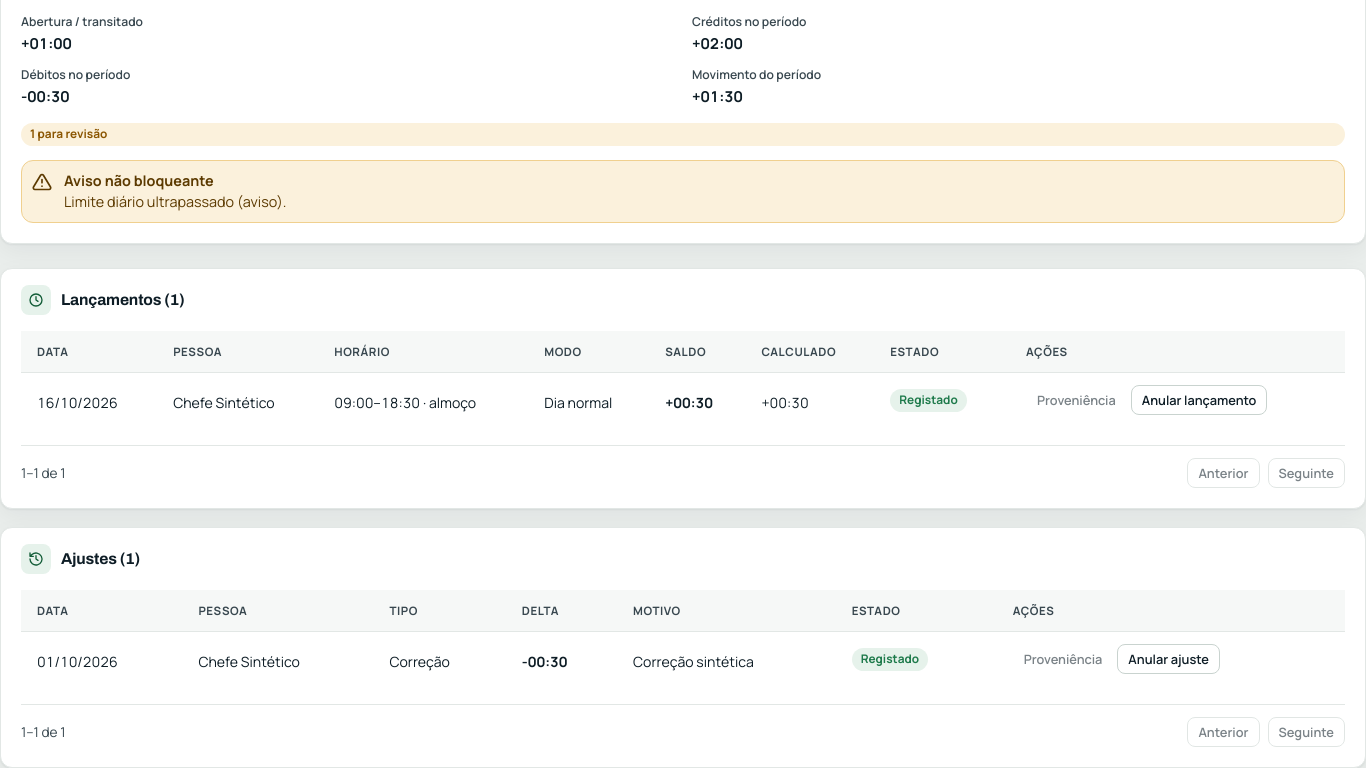
Test case: Banco de Horas › exige motivo para anular e mostra o lançamento original depois da compensação
(page scrolled)
Click the button "Anular lançamento".
click(1199, 400)  # box [1131, 385, 1267, 415]
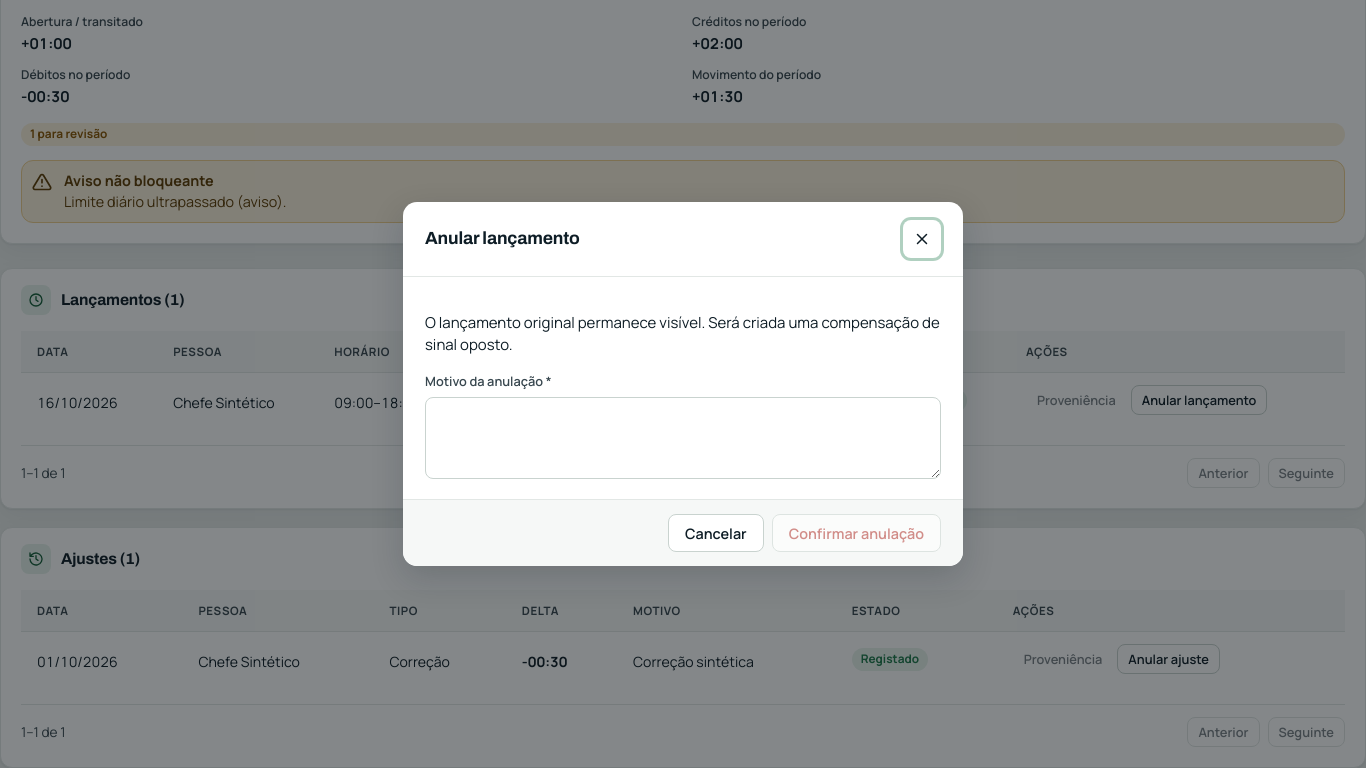
Check: the button "Confirmar anulação" is disabled, box [772, 514, 941, 552]
Type "Correção sintética" into the text box labelled "Motivo da anulação *".
click(683, 438); type("Correção sintética")  # box [425, 397, 941, 479]
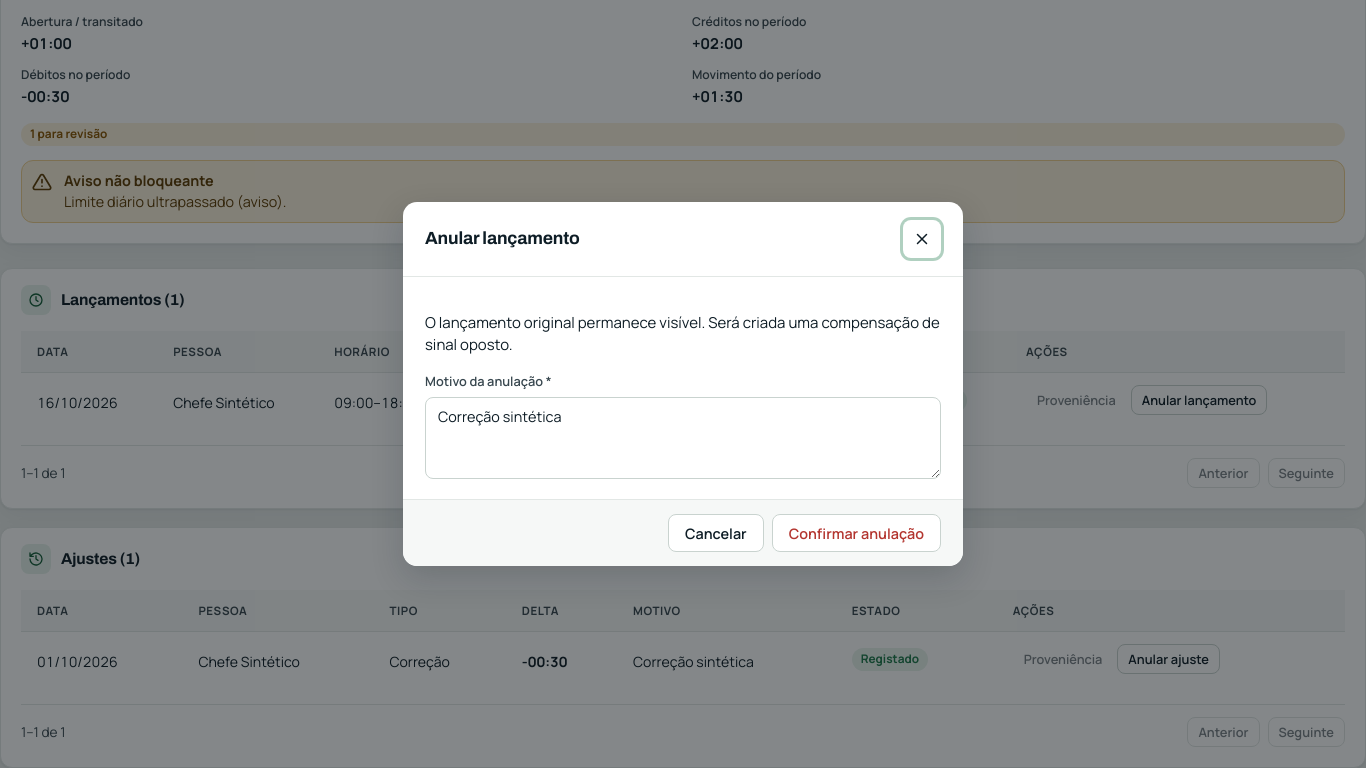
Check: the button "Confirmar anulação" is enabled
Click the button "Confirmar anulação".
click(856, 534)  # box [772, 514, 941, 552]
(page scrolled)
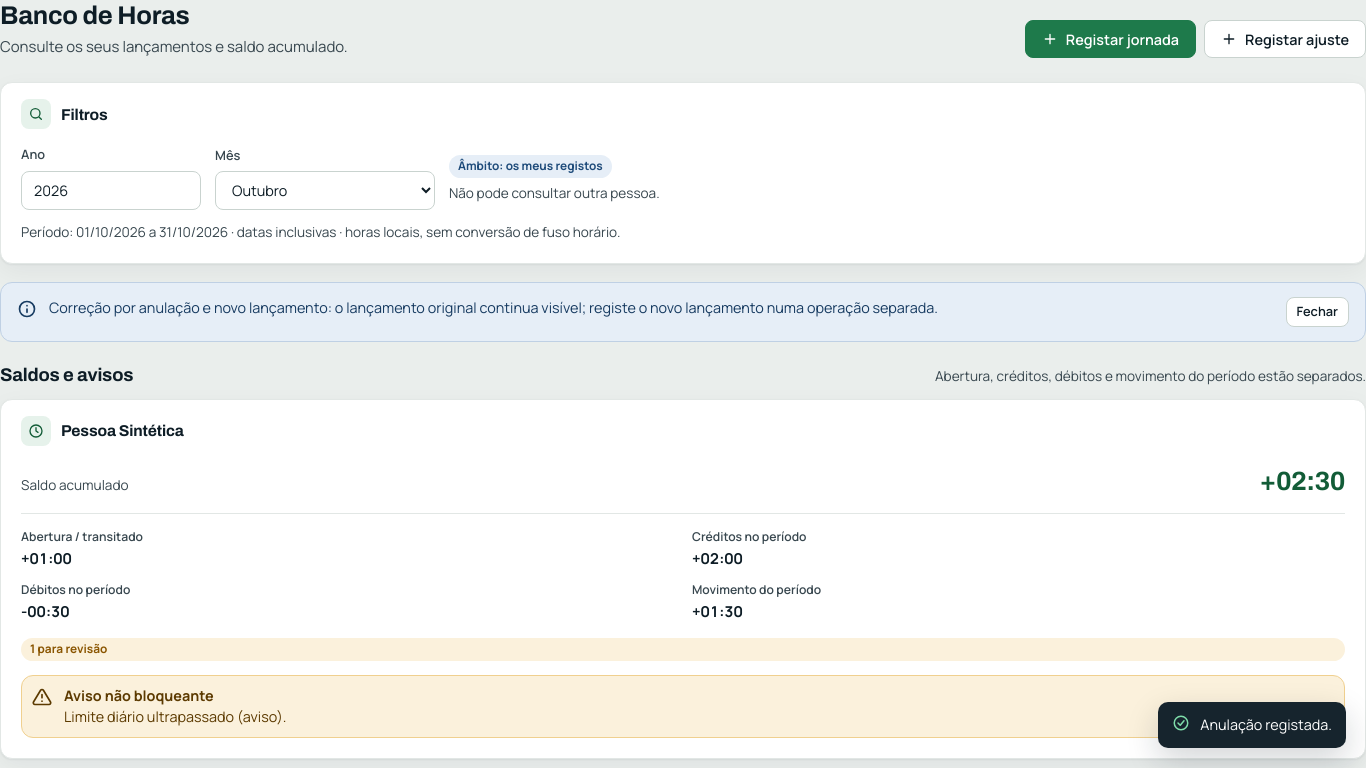
Check: the text "Correção por anulação e novo lançamento" is shown, box [49, 298, 938, 317]
Check: the button "Anular lançamento" is gone
